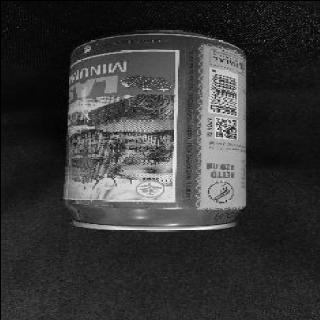alumunium_can: (62, 28, 246, 230)
